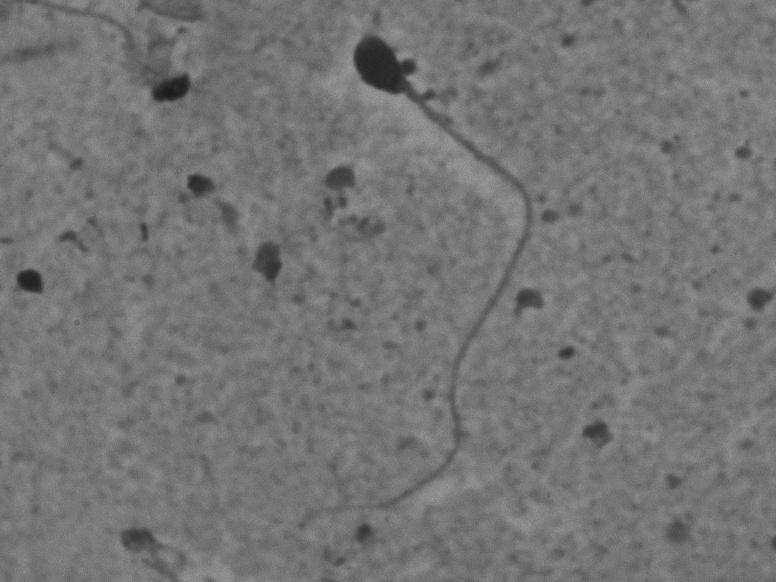Abnormal: (235, 24, 607, 534)
